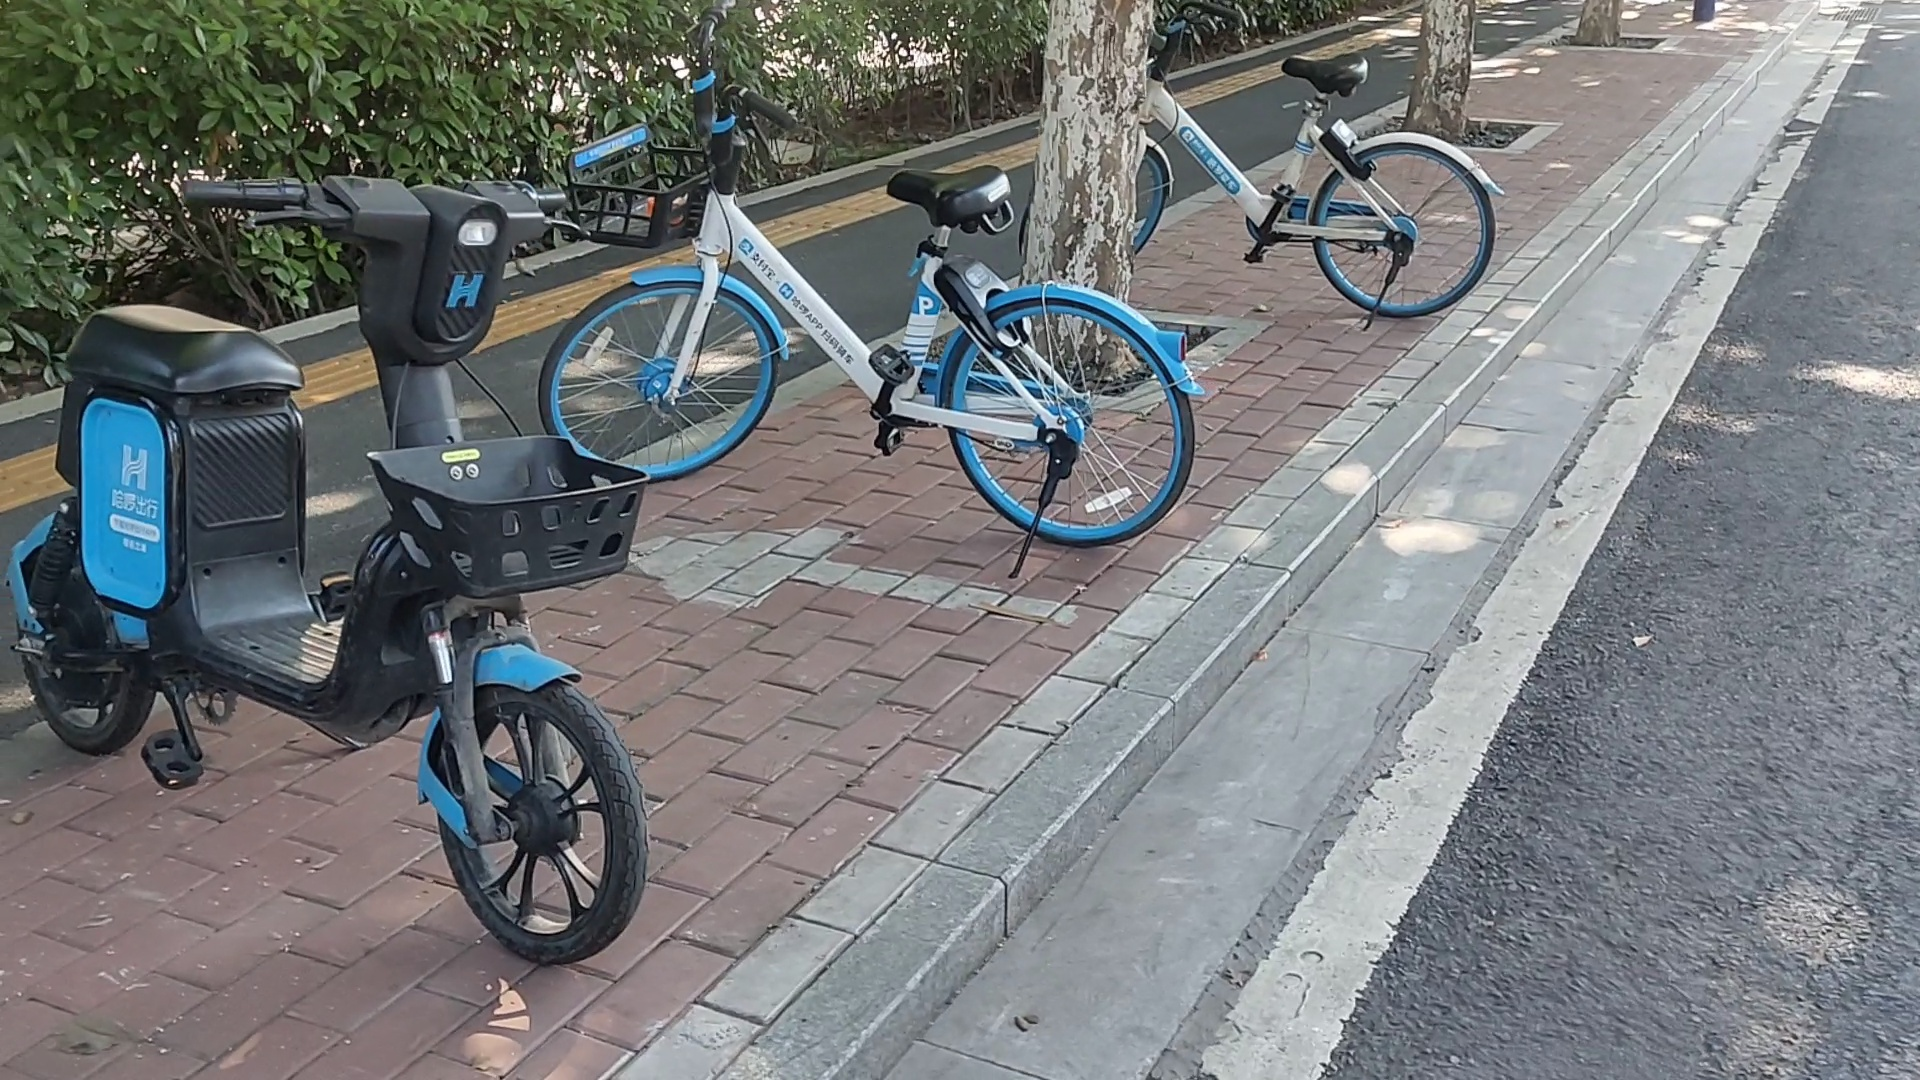non-vehicle: (7, 123, 667, 986), (3, 171, 662, 997), (542, 47, 1197, 559), (1025, 29, 1499, 326)
